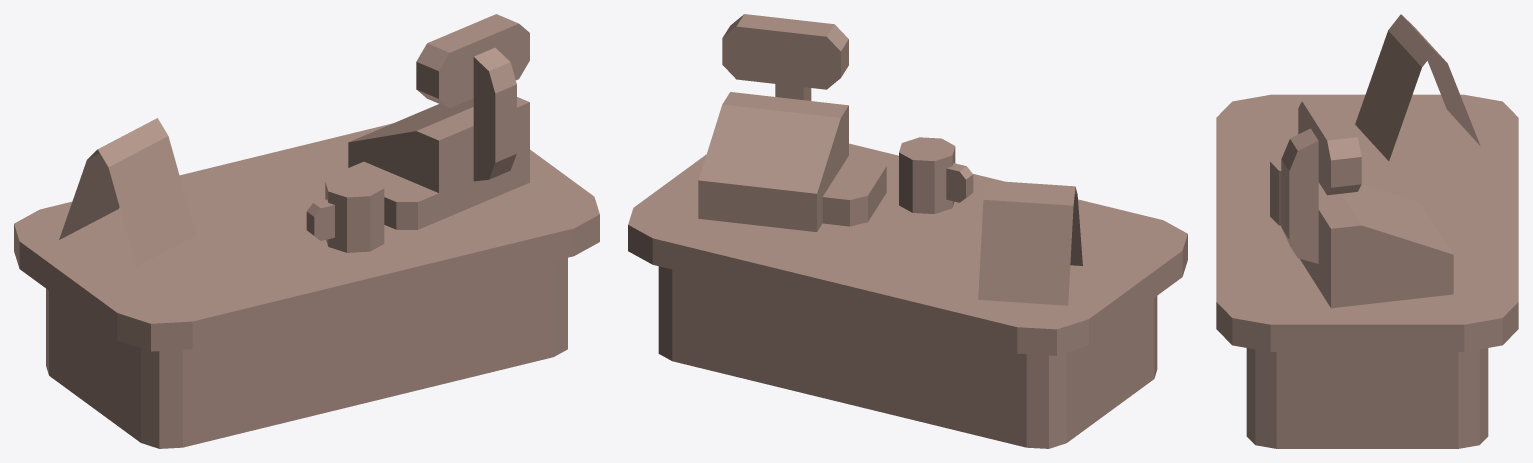
The model's file is cash-register.obj.
3 views of the same model, side by side, from view 1: azimuth 30°, elevation 25°; view 2: azimuth 150°, elevation 25°; view 3: azimuth 270°, elevation 25° (orthographic). The views are drawn at different scales.
Size of the model in its own units: 0.9 by 0.5449 by 0.5.
